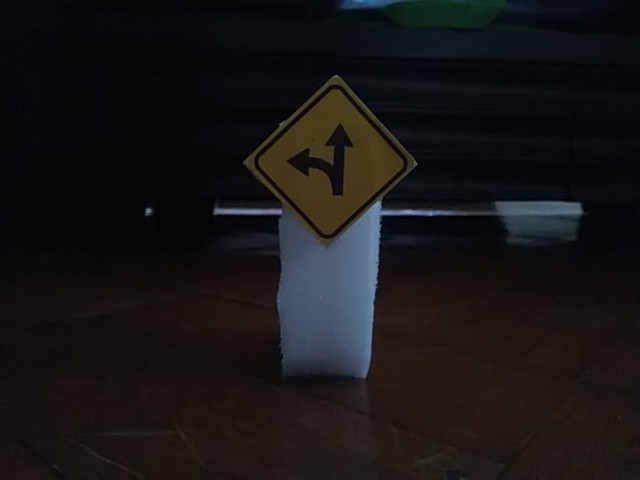Straight Or Left Sign: (251, 80, 416, 244)
